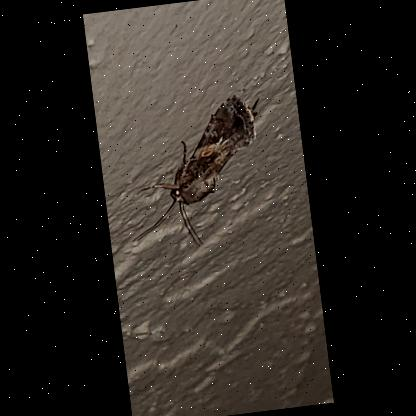Fall Armyworm Moth: (119, 89, 272, 254)
